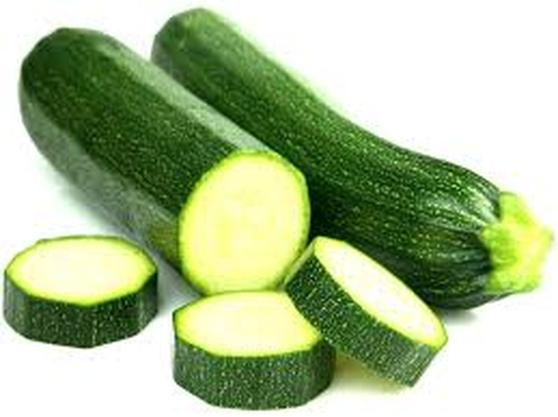zucchini: (151, 10, 551, 311)
